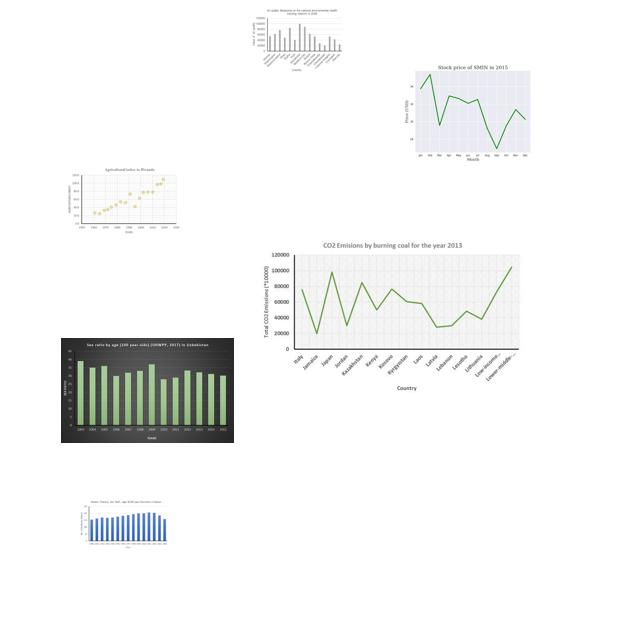Graph: (261, 240, 523, 393), (61, 338, 234, 443), (394, 58, 548, 164), (65, 165, 181, 235), (250, 8, 344, 73), (78, 499, 169, 550)
